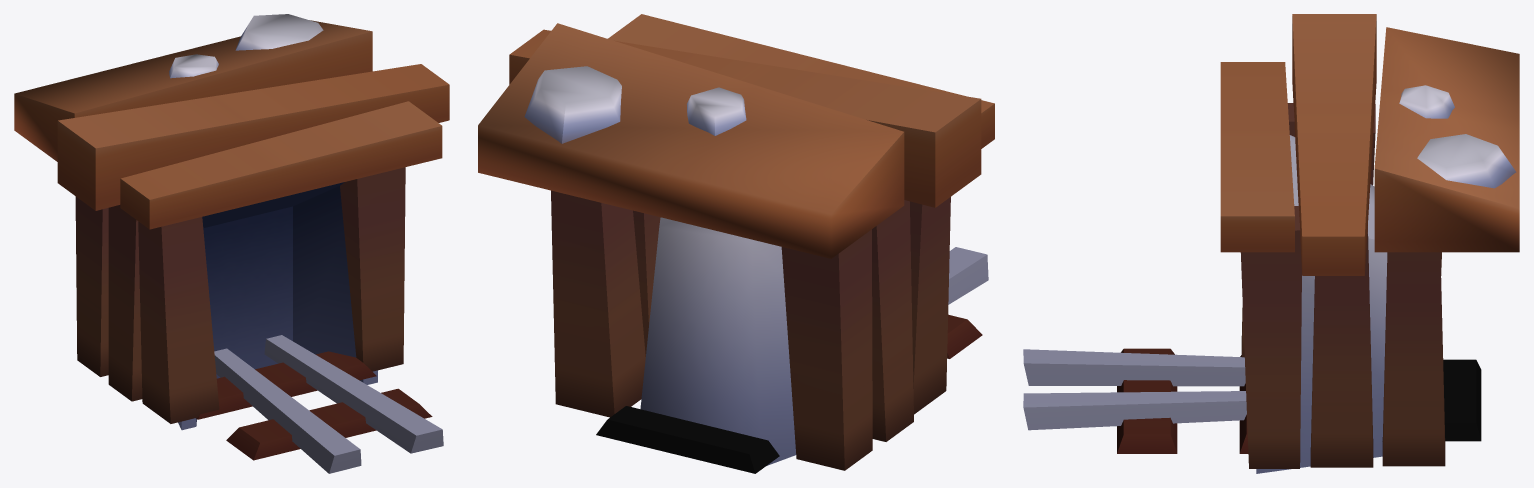
Rendered from block_mountain_4_2.fbx.
The picture shows the model from 3 angles, left to right: view 1: azimuth 30°, elevation 25°; view 2: azimuth 150°, elevation 25°; view 3: azimuth 270°, elevation 25°; orthographic projection. The views are drawn at different scales.
Visible parts, largest first — view 1: block_mountain_4_2; view 2: block_mountain_4_2; view 3: block_mountain_4_2.
Boxes of the visible parts, box(x1,y1,x2,y2) form: block_mountain_4_2: box(14, 14, 449, 473); block_mountain_4_2: box(478, 14, 994, 473); block_mountain_4_2: box(1023, 14, 1519, 473).
Size of the model in its own units: 104 by 83.44 by 113.
